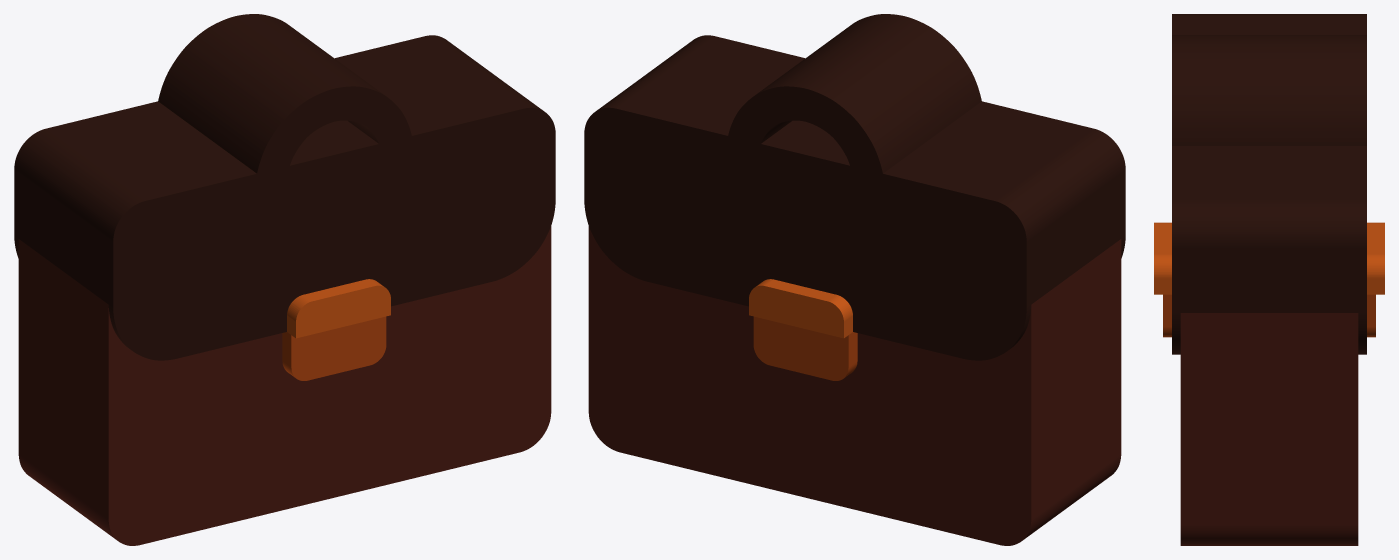
The picture shows the model from 3 angles, left to right: view 1: azimuth 30°, elevation 25°; view 2: azimuth 150°, elevation 25°; view 3: azimuth 270°, elevation 25°; orthographic projection.
Visible parts, largest first — view 1: U+1F4BC_layer01_obj00, U+1F4BC_layer00_obj00, U+1F4BC_layer02_obj00, U+1F4BC_layer03_obj00; view 2: U+1F4BC_layer01_obj00, U+1F4BC_layer00_obj00, U+1F4BC_layer02_obj00, U+1F4BC_layer03_obj00; view 3: U+1F4BC_layer01_obj00, U+1F4BC_layer00_obj00, U+1F4BC_layer03_obj00, U+1F4BC_layer02_obj00.
Boxes of the visible parts, bbox=[...] form: U+1F4BC_layer01_obj00: bbox=[14, 14, 555, 360]; U+1F4BC_layer00_obj00: bbox=[18, 226, 551, 545]; U+1F4BC_layer02_obj00: bbox=[282, 316, 386, 380]; U+1F4BC_layer03_obj00: bbox=[287, 279, 390, 338]; U+1F4BC_layer01_obj00: bbox=[584, 14, 1125, 360]; U+1F4BC_layer00_obj00: bbox=[588, 226, 1121, 545]; U+1F4BC_layer02_obj00: bbox=[753, 316, 857, 380]; U+1F4BC_layer03_obj00: bbox=[749, 279, 852, 338]; U+1F4BC_layer01_obj00: bbox=[1172, 14, 1366, 354]; U+1F4BC_layer00_obj00: bbox=[1180, 313, 1358, 545]; U+1F4BC_layer03_obj00: bbox=[1154, 222, 1384, 294]; U+1F4BC_layer02_obj00: bbox=[1163, 294, 1375, 337].
Bounding box in the file's own units: 0.5678 × 0.5071 × 0.26.
